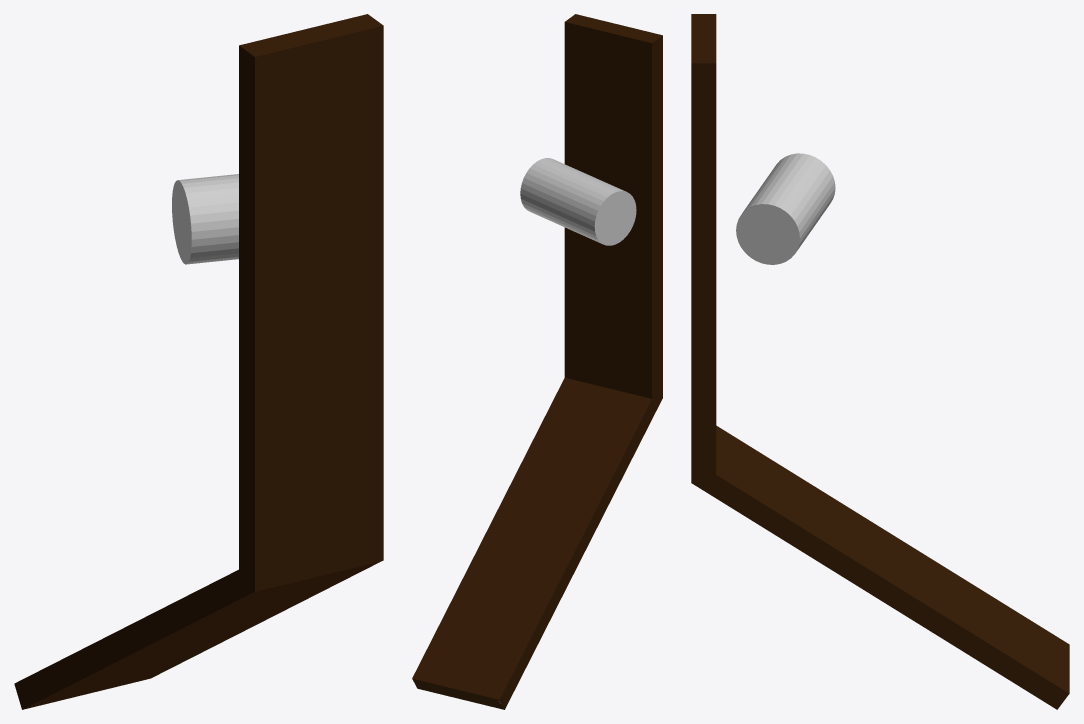
File: Door_openPlassObject.obj
3 views of the same model, side by side, from view 1: azimuth 30°, elevation 25°; view 2: azimuth 150°, elevation 25°; view 3: azimuth 270°, elevation 25° (orthographic). The views are drawn at different scales.
Visible parts, largest first — view 1: Door_openPlassObject; view 2: Door_openPlassObject; view 3: Door_openPlassObject.
Part boxes in pixels (box(x1,y1,x2,y2)): Door_openPlassObject: box(14, 14, 383, 709); Door_openPlassObject: box(412, 14, 662, 709); Door_openPlassObject: box(691, 14, 1069, 709).
Bounding box in the file's own units: 0.3331 × 1.71 × 0.9068.
Materials: 1 (1 with a texture image).
